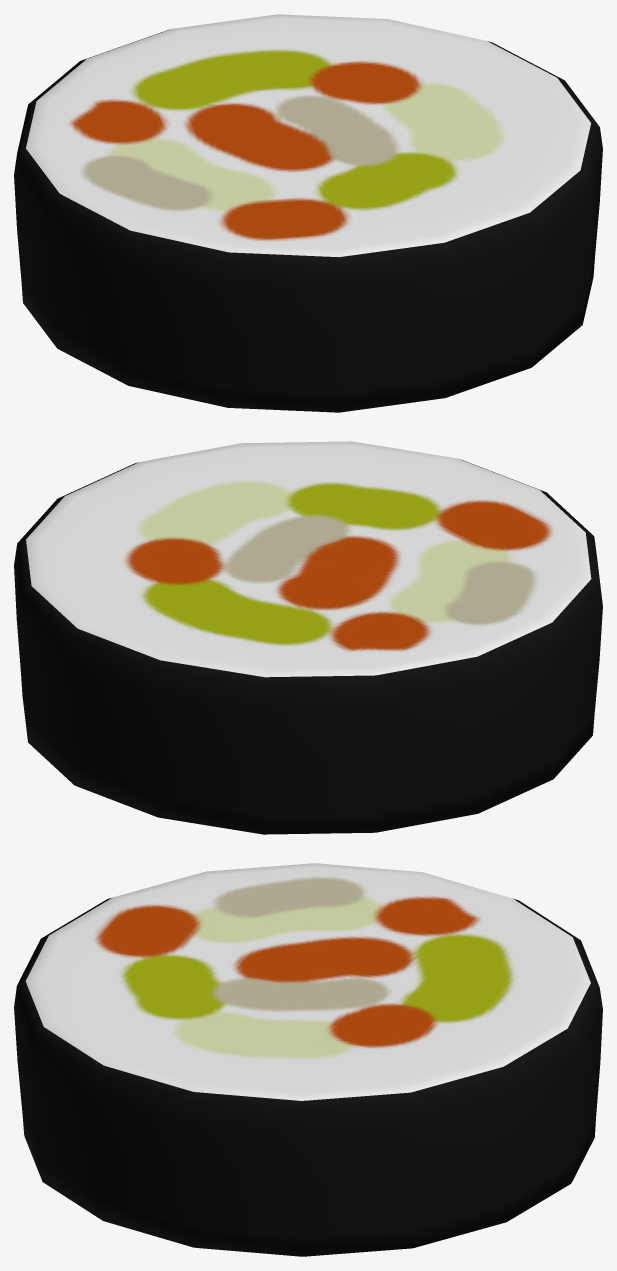
File: Food_Sushi.fbx
The picture shows the model from 3 angles, top to bottom: view 1: azimuth 30°, elevation 25°; view 2: azimuth 150°, elevation 25°; view 3: azimuth 270°, elevation 25°; orthographic projection.
Parts seen in each view (by area): view 1: Sushi_6; view 2: Sushi_6; view 3: Sushi_6.
Boxes of the visible parts, left/top/right/bottom form: Sushi_6: left=14, top=14, right=602, bottom=412; Sushi_6: left=14, top=441, right=602, bottom=834; Sushi_6: left=14, top=863, right=602, bottom=1256.
Size of the model in its own units: 10.56 by 3.25 by 10.56.
